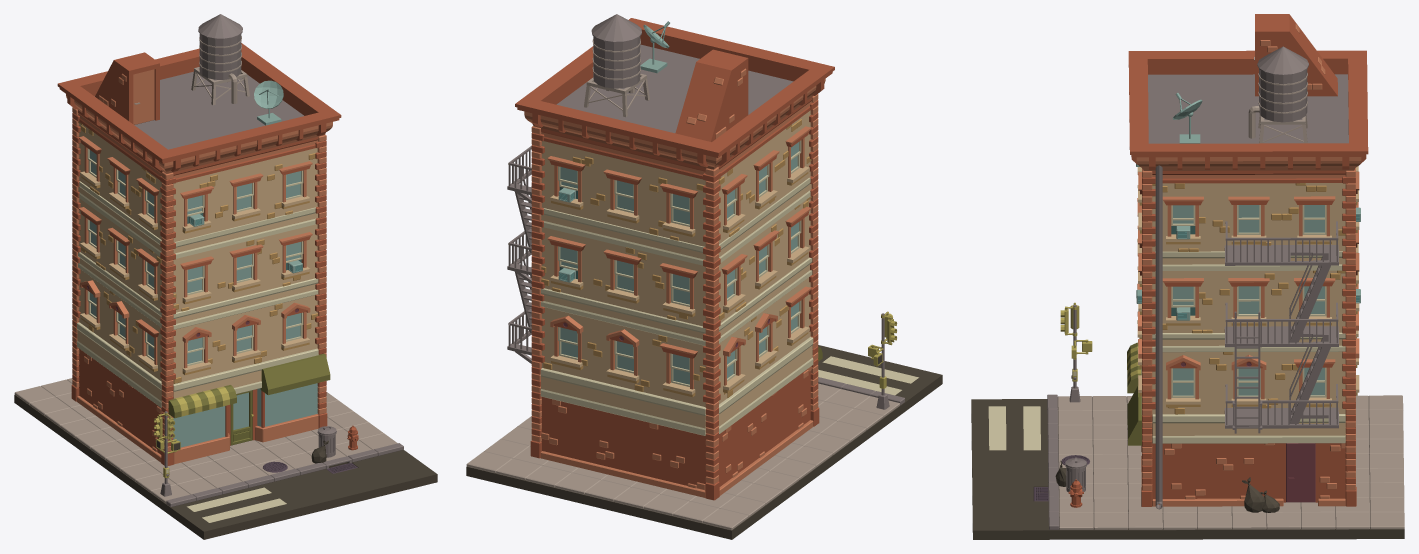
The picture shows the model from 3 angles, left to right: view 1: azimuth 30°, elevation 25°; view 2: azimuth 150°, elevation 25°; view 3: azimuth 270°, elevation 25°; orthographic projection. The views are drawn at different scales.
Visible parts, largest first — view 1: Roof.001, PavementStones.001, Road.002, CornerStonesTop, GroundCeiling, Floor2Ceiling, Floor1Ceiling, ShopFront.102, WaterTower, RoofAccess, ShopFront.118, ShopFront.104 (+27 smaller); view 2: Roof.001, PavementStones.001, CornerStonesTop, Road.002, GroundCeiling, Floor2Ceiling, Floor1Ceiling, RoofAccess, WaterTower, ShopFront.136, ShopFront.134, ShopFront.135 (+29 smaller); view 3: Roof.001, PavementStones.001, Road.002, CornerStonesTop, GroundCeiling, WaterTower, ShopFront.145, ShopFront.157, ShopFront.144, ShopFront.106, ShopFront.152, ShopFront.059 (+24 smaller).
Boxes of the visible parts, box(x1,y1,x2,y2) form: Roof.001: box(57, 43, 341, 182); PavementStones.001: box(14, 378, 397, 503); Road.002: box(14, 394, 437, 539); CornerStonesTop: box(72, 107, 326, 381); GroundCeiling: box(77, 322, 318, 407); Floor2Ceiling: box(78, 181, 317, 258); Floor1Ceiling: box(78, 252, 318, 329); ShopFront.102: box(257, 353, 330, 426); WaterTower: box(191, 14, 249, 105); RoofAccess: box(95, 52, 159, 124); ShopFront.118: box(219, 159, 270, 230); ShopFront.104: box(168, 385, 236, 447); Roof.001: box(515, 18, 834, 179); PavementStones.001: box(466, 383, 899, 530); CornerStonesTop: box(531, 94, 818, 404); Road.002: box(466, 345, 942, 539); GroundCeiling: box(540, 337, 813, 435); Floor2Ceiling: box(541, 177, 811, 265); Floor1Ceiling: box(541, 257, 812, 345); RoofAccess: box(675, 49, 748, 141); WaterTower: box(584, 14, 649, 117); ShopFront.136: box(595, 153, 653, 233); ShopFront.134: box(595, 319, 653, 394); ShopFront.135: box(595, 239, 653, 314); Roof.001: box(1128, 50, 1368, 183); PavementStones.001: box(1057, 395, 1404, 529); Road.002: box(971, 399, 1404, 539); CornerStonesTop: box(1142, 167, 1355, 409); GroundCeiling: box(1141, 368, 1345, 443); WaterTower: box(1248, 46, 1308, 143); ShopFront.145: box(1214, 183, 1283, 251); ShopFront.157: box(1152, 183, 1214, 251); ShopFront.144: box(1214, 271, 1283, 332); ShopFront.106: box(1214, 443, 1283, 498); ShopFront.152: box(1214, 352, 1283, 414); ShopFront.059: box(1283, 183, 1345, 251).
Bounding box in the file's own units: 9.13 × 14.3 × 12.55.
1 material, 1 textured.
